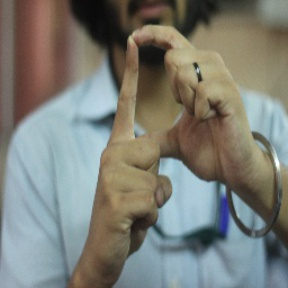D: (111, 22, 227, 169)
